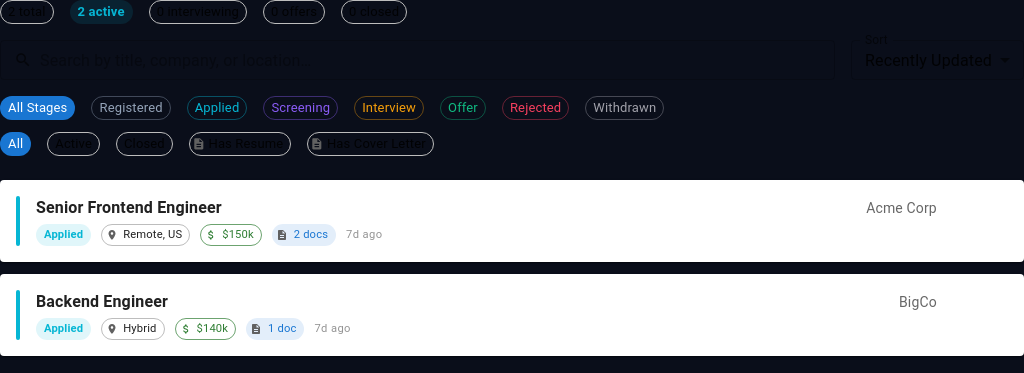
it: ApplicationsQueuePage › filters applications by resume metadata from the API response
What coordinates should you click on to do the following:
click the button "Has Resume"
I would click on:
 (240, 144)
Its box is [189, 132, 291, 156].
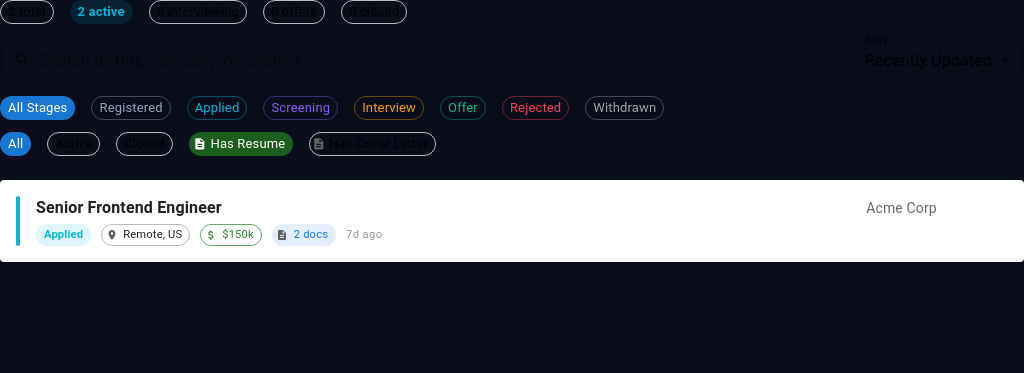
Expected: the text "Senior Frontend Engineer" is shown, [36, 198, 222, 217]
Expected: the button "Backend Engineer" is gone
